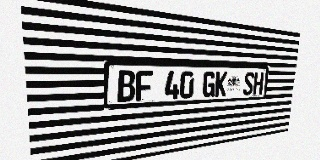0: (179, 71, 194, 99)
4: (164, 71, 180, 100)
B: (117, 70, 135, 102)
F: (136, 70, 153, 101)
G: (202, 71, 216, 98)
H: (253, 72, 264, 95)
K: (214, 71, 228, 97)
S: (243, 72, 254, 95)
